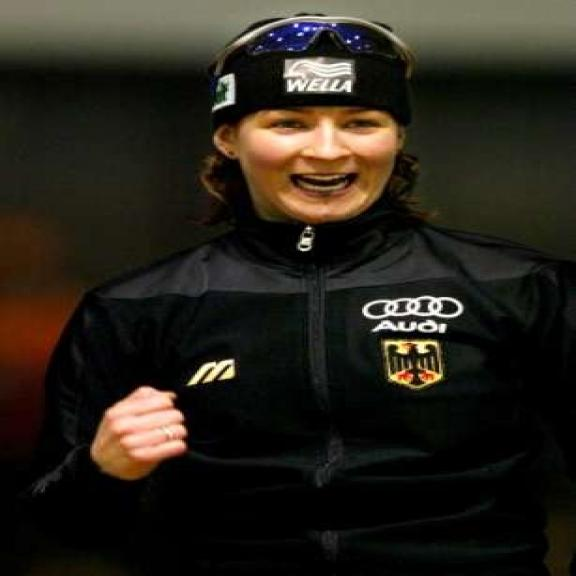face: (213, 99, 409, 236)
